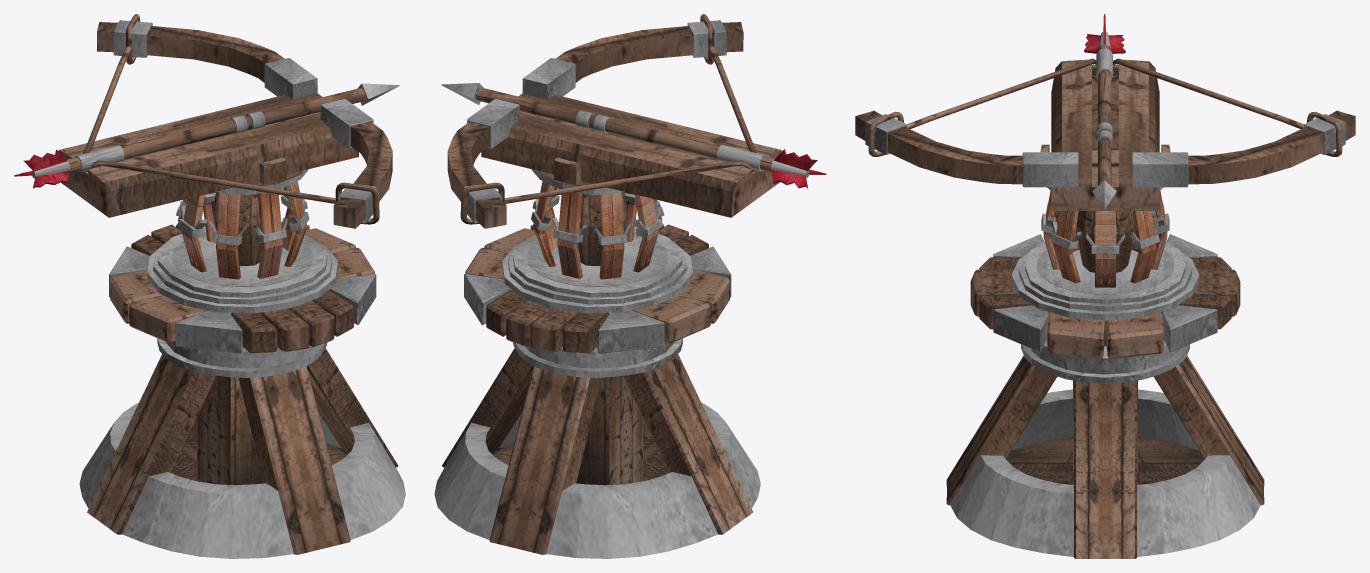
Rendered from Xbow.fbx.
3 views of the same model, side by side, from view 1: azimuth 30°, elevation 25°; view 2: azimuth 150°, elevation 25°; view 3: azimuth 270°, elevation 25° (orthographic). The views are drawn at different scales.
Parts seen in each view (by area): view 1: Base_Foundation_Xbow, Turret_Xbow, Turret_Foundation_Xbow, Arrow; view 2: Base_Foundation_Xbow, Turret_Xbow, Turret_Foundation_Xbow, Arrow; view 3: Base_Foundation_Xbow, Turret_Xbow, Turret_Foundation_Xbow, Arrow.
Boxes of the visible parts, <box> form: Base_Foundation_Xbow: <box>79,222,405,558</box>; Turret_Xbow: <box>58,14,392,228</box>; Turret_Foundation_Xbow: <box>172,169,312,286</box>; Arrow: <box>14,83,399,188</box>; Base_Foundation_Xbow: <box>434,222,760,558</box>; Turret_Xbow: <box>447,14,782,228</box>; Turret_Foundation_Xbow: <box>527,169,667,286</box>; Arrow: <box>441,83,826,188</box>; Base_Foundation_Xbow: <box>946,234,1264,558</box>; Turret_Xbow: <box>855,58,1355,210</box>; Turret_Foundation_Xbow: <box>1036,187,1174,294</box>; Arrow: <box>1084,14,1125,209</box>.
Size of the model in its own units: 263 by 257 by 309.
